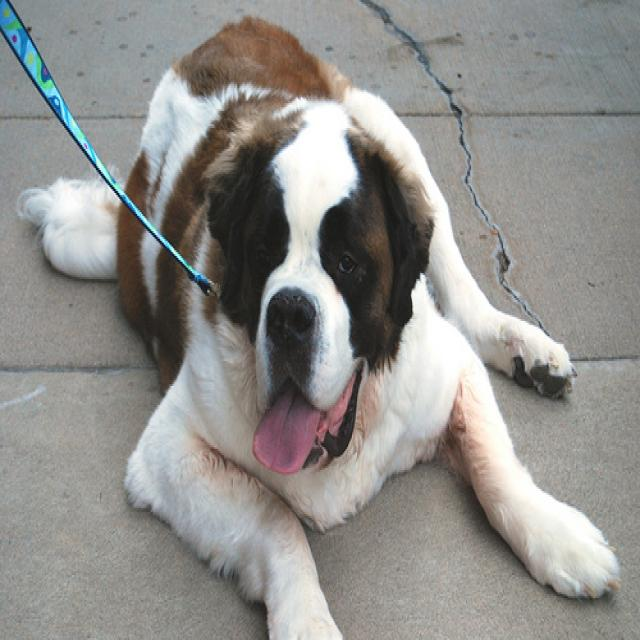dog-saint_bernard: (32, 4, 631, 636)
